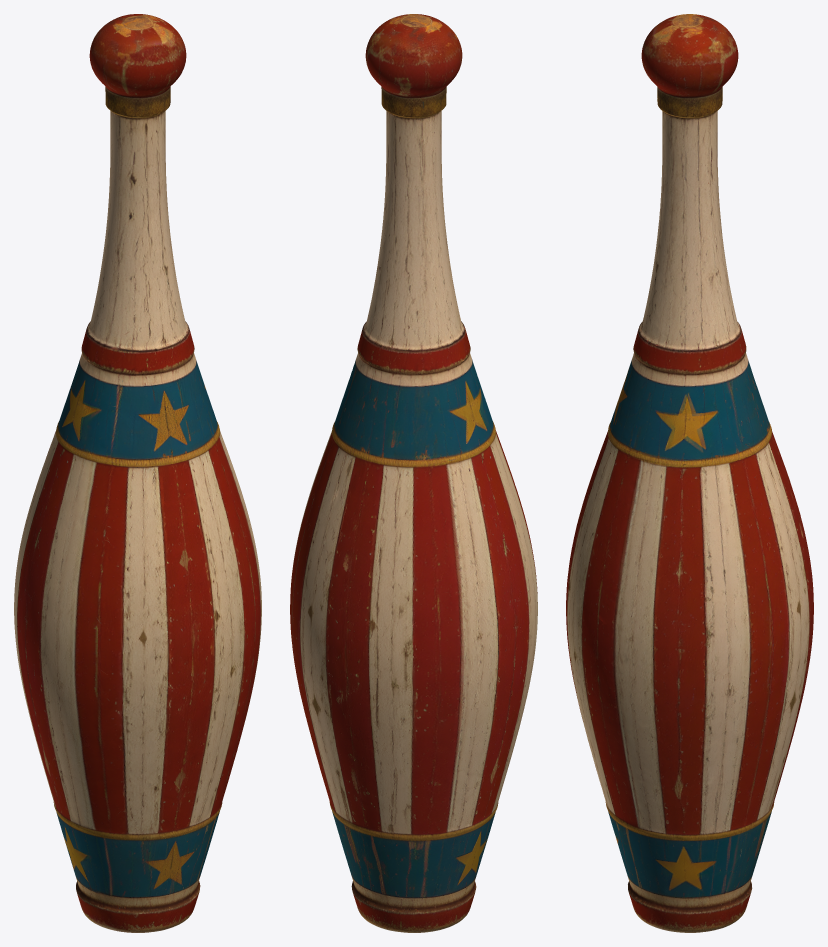
The model's file is Meshy_AI_Stars_and_Stripes_Bow_0509173755_texture.fbx.
The picture shows the model from 3 angles, left to right: view 1: azimuth 30°, elevation 25°; view 2: azimuth 150°, elevation 25°; view 3: azimuth 270°, elevation 25°; orthographic projection.
Visible parts, largest first — view 1: Mesh_0; view 2: Mesh_0; view 3: Mesh_0.
Part boxes in pixels (<box>): Mesh_0: <box>14,14,261,932</box>; Mesh_0: <box>290,14,537,932</box>; Mesh_0: <box>566,14,813,932</box>.
Size of the model in its own units: 48.06 by 191 by 48.04.
Materials: 1 (1 with a texture image).
